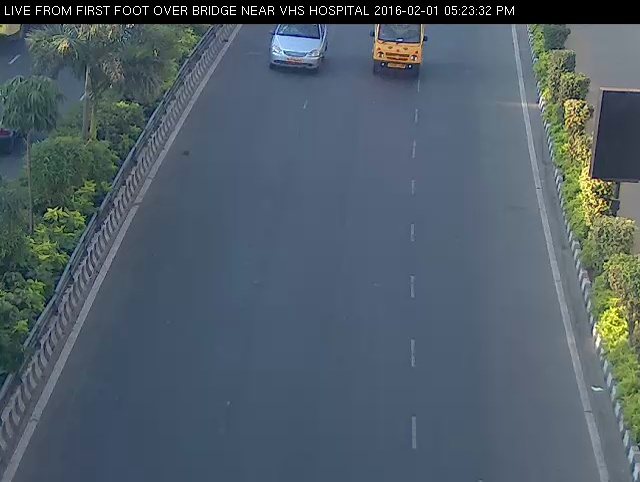Auto: (365, 17, 435, 85)
Car: (261, 18, 338, 82)
